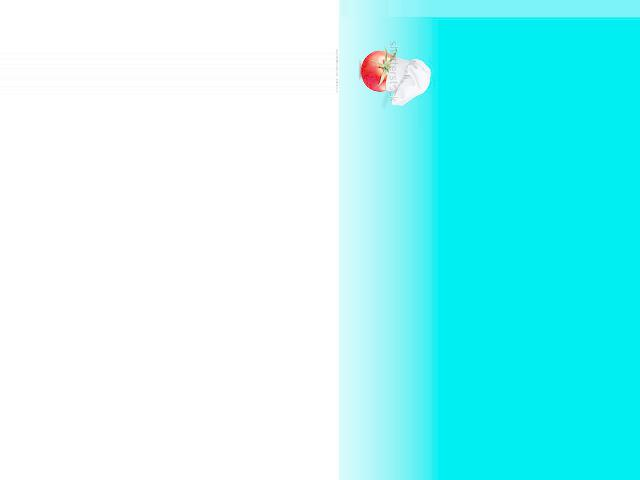tomato: (361, 51, 395, 92)
